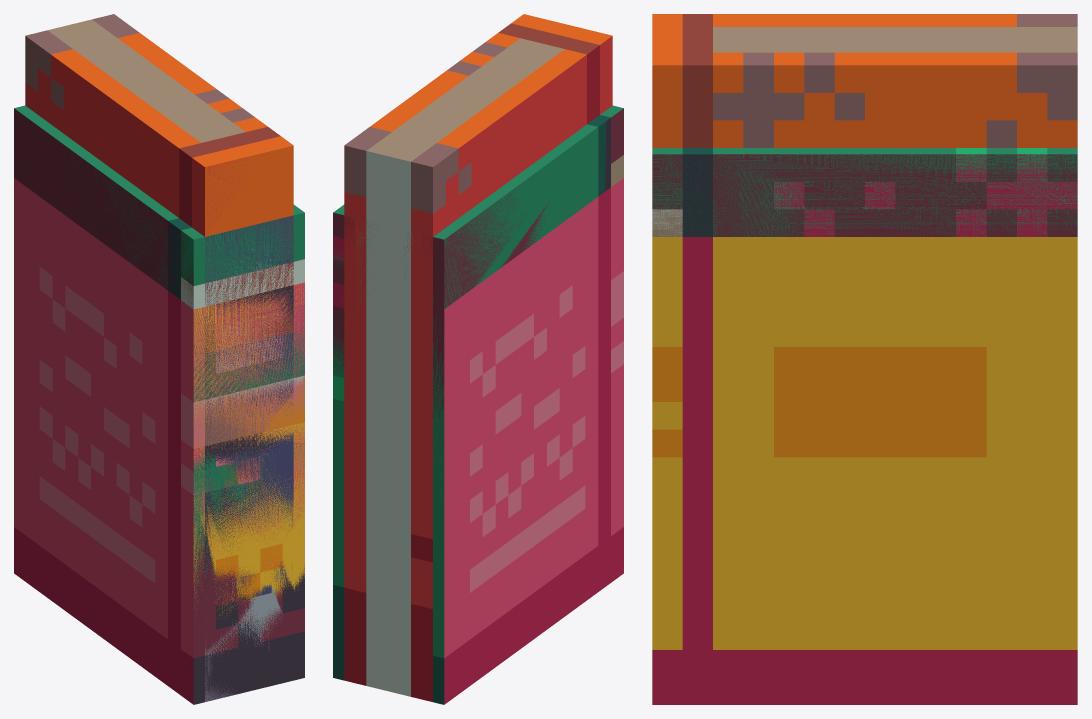
The model's file is VoxelBooks.glb.
3 views of the same model, side by side, from view 1: azimuth 30°, elevation 25°; view 2: azimuth 150°, elevation 25°; view 3: azimuth 270°, elevation 25° (orthographic). The views are drawn at different scales.
Visible parts, largest first — view 1: Book_6, Book_8, Book_5, Book_0, Book_7, Book_1, Book_4, Book_2, Book_3; view 2: Book_6, Book_4, Book_0, Book_5, Book_8; view 3: Book_7, Book_5, Book_8, Book_0.
Part boxes in pixels (<box>): Book_6: <box>14,178,304,704</box>; Book_8: <box>14,108,304,704</box>; Book_5: <box>25,14,293,570</box>; Book_0: <box>14,105,304,592</box>; Book_7: <box>193,282,304,618</box>; Book_1: <box>205,216,293,598</box>; Book_4: <box>25,36,259,236</box>; Book_2: <box>205,285,293,594</box>; Book_3: <box>205,565,292,701</box>; Book_6: <box>435,178,623,704</box>; Book_4: <box>344,36,612,701</box>; Book_0: <box>333,105,623,704</box>; Book_5: <box>344,14,612,166</box>; Book_8: <box>333,108,623,447</box>; Book_7: <box>652,237,1077,704</box>; Book_5: <box>652,14,1077,147</box>; Book_8: <box>652,154,1077,236</box>; Book_0: <box>652,148,1077,236</box>.
Size of the model in its own units: 0.05 by 0.23 by 0.14.
Materials: 1 (1 with a texture image).
